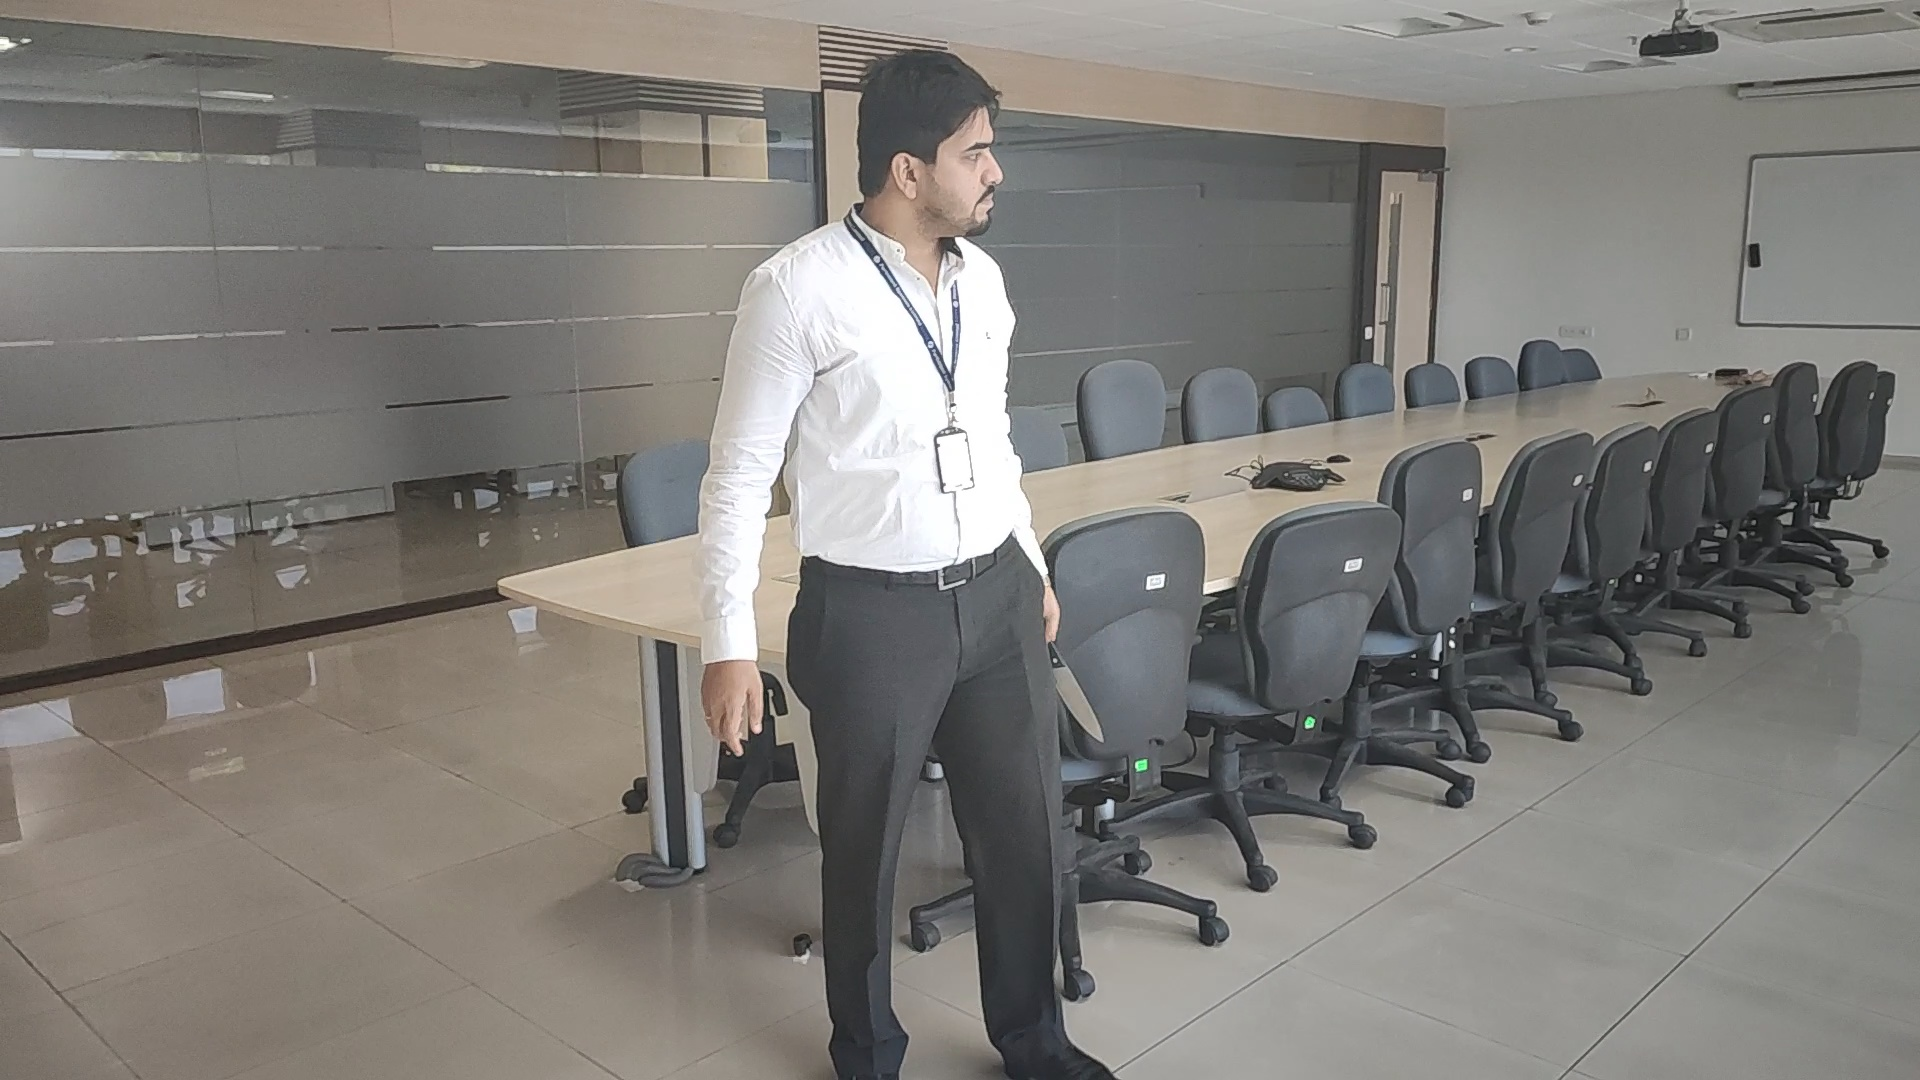knife: (1052, 642, 1106, 746)
